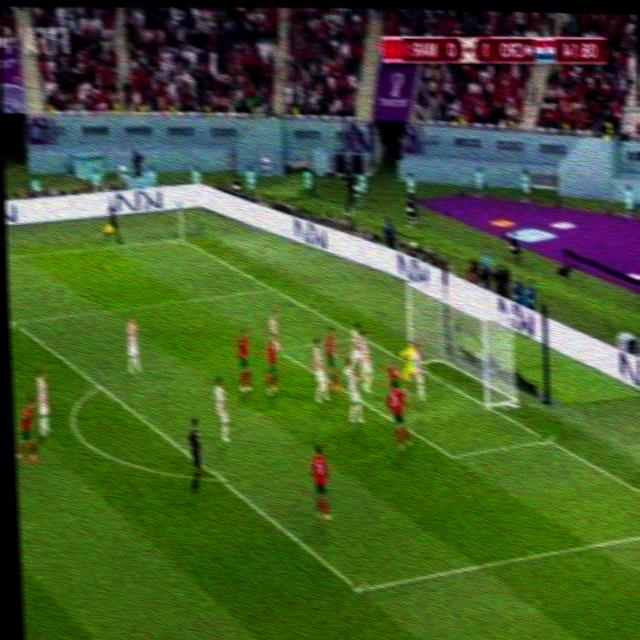bigarea_bottom_inner: (351, 576, 368, 603)
bigarea_top_inner: (9, 312, 20, 332)
bigarea_top_outter: (267, 282, 279, 297)
bottom_arc_area_intersection: (210, 467, 226, 492)
corner: (176, 230, 188, 250)
smallarea_bottom_inner: (442, 446, 457, 469)
smallarea_bottom_outter: (539, 430, 555, 451)
smallarea_top_inner: (275, 342, 282, 357)
top_arc_area_intersection: (92, 374, 106, 397)
